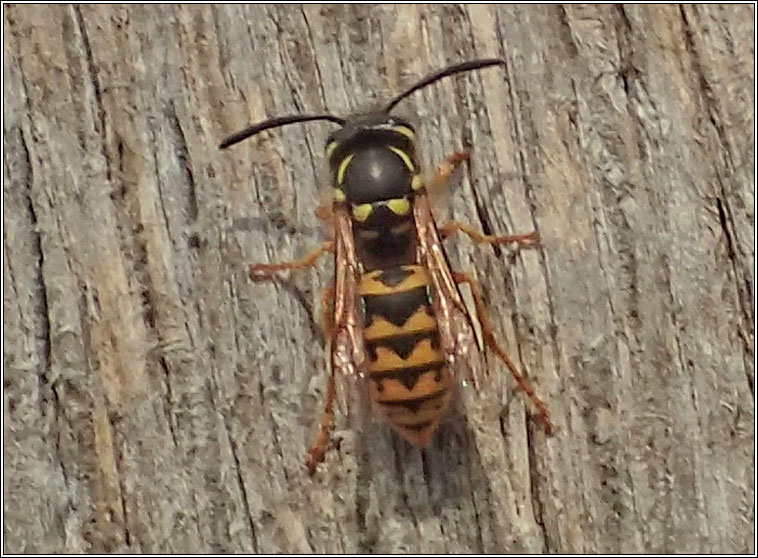chax: (208, 41, 629, 506)
